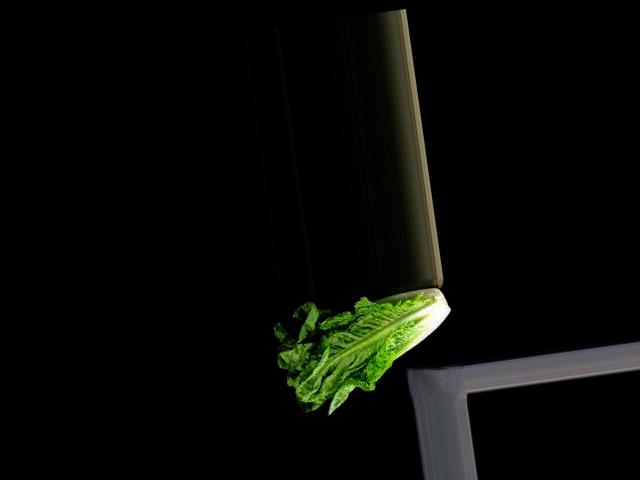lettuce: (277, 289, 459, 413)
